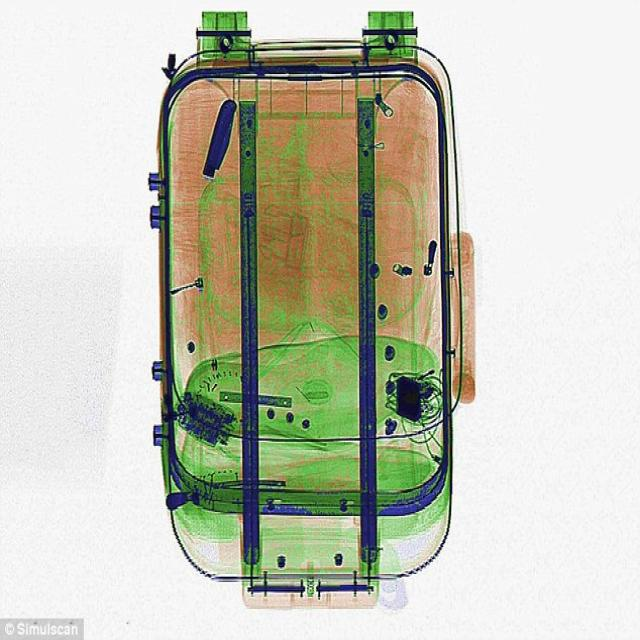knife: (199, 96, 242, 176)
